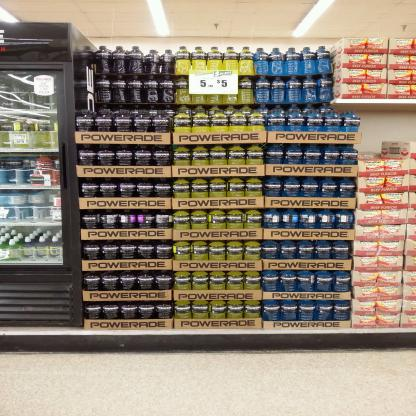Void: (381, 106, 416, 142), (359, 107, 379, 158)
